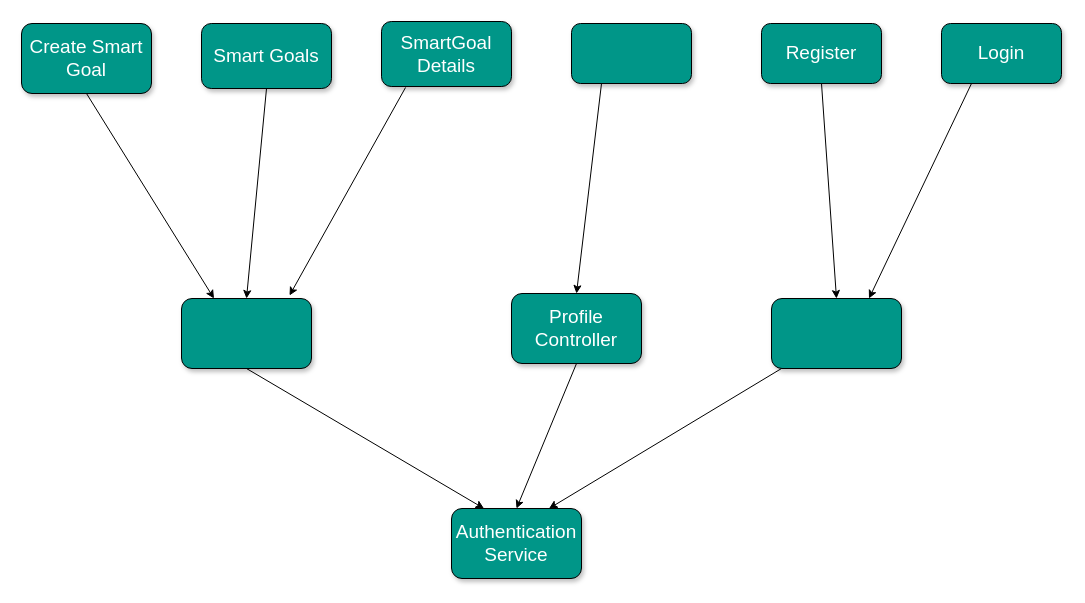
Image size: 1085x603. Some labels were removed from this diagram. Each missing label, with the centre of its shape:
"Profile" goes at point (632, 54).
"Registration Controller" goes at point (837, 335).
"Smart Goal Controller" goes at point (247, 335).
